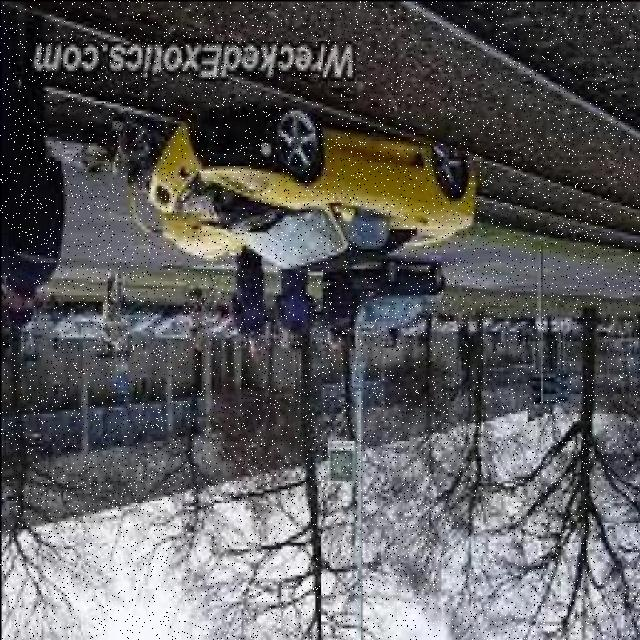damage: (120, 117, 317, 258)
